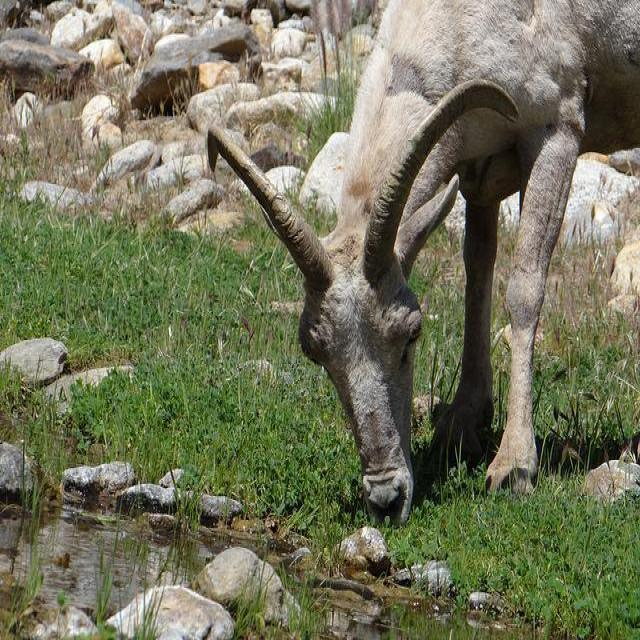Sheep: (211, 0, 639, 527)
